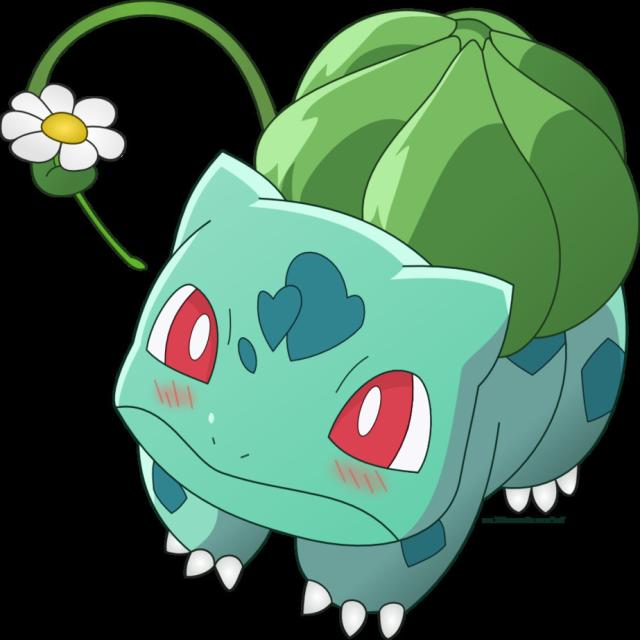Bulbasaur: (103, 8, 640, 630)
